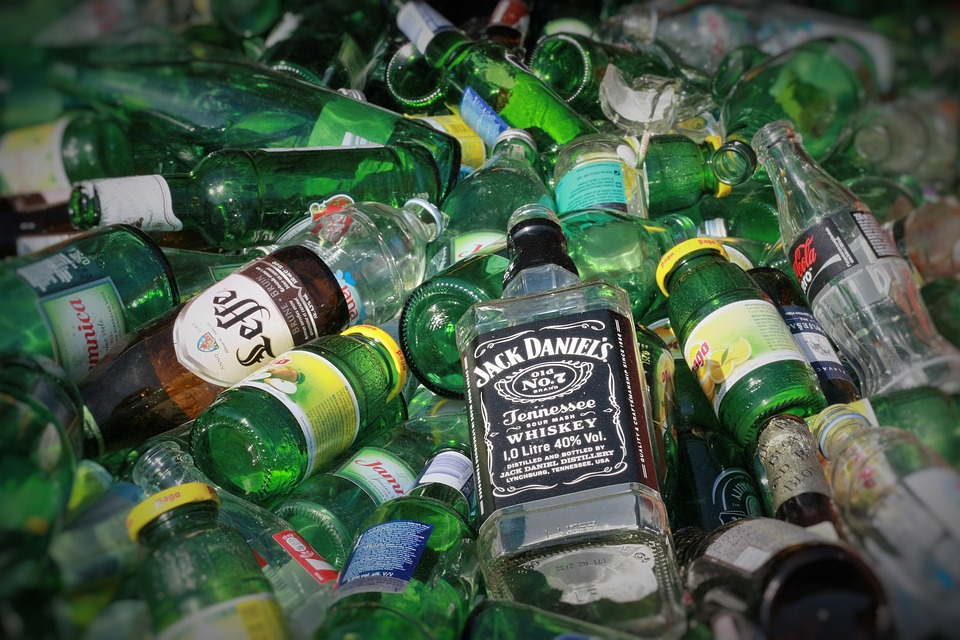glass_bottle: (5, 4, 955, 633)
